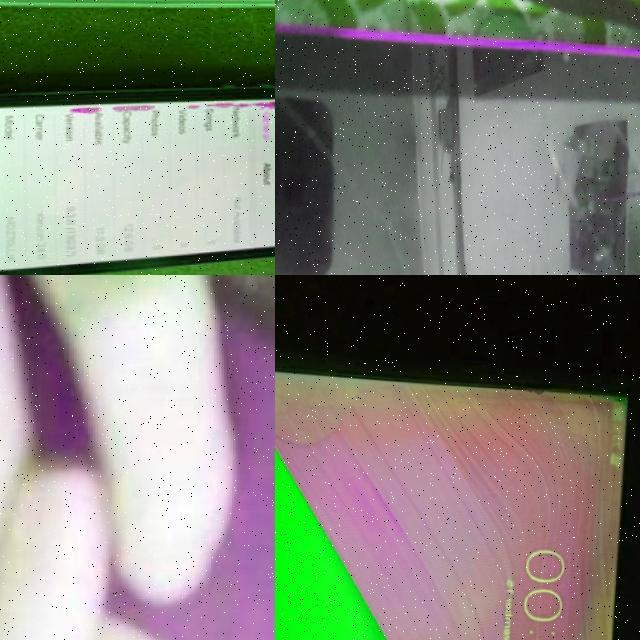dead pixel: (49, 93, 275, 128)
screen crack: (275, 30, 424, 275), (504, 40, 640, 275)
